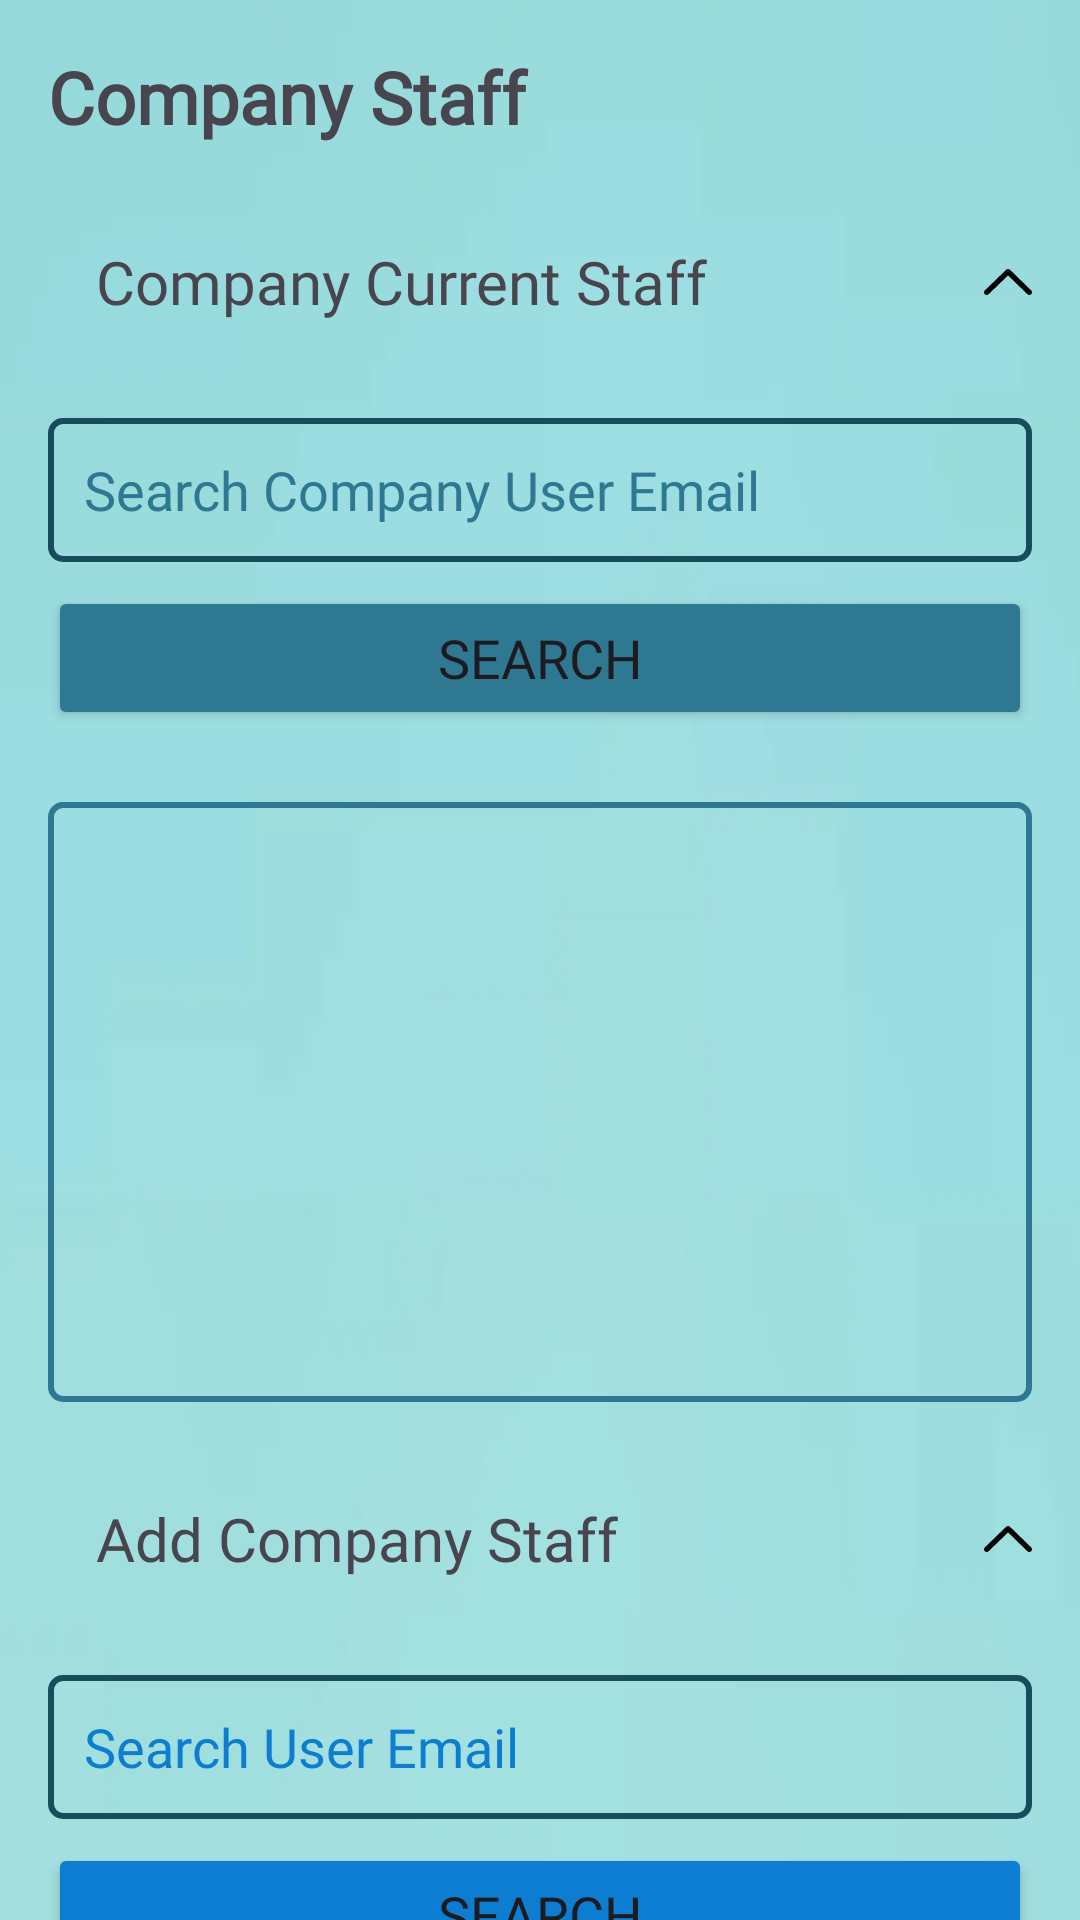

Locate icon controls on the screen. Image size 1080×1920, boxes as (x1, y1, x2, y2).
arrow up: (984, 269, 1032, 295), (984, 1526, 1032, 1552)
